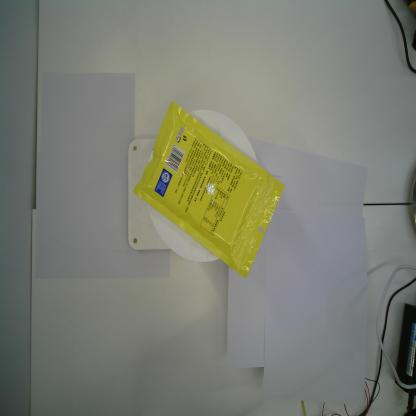Dried Fruit: (132, 101, 285, 279)
